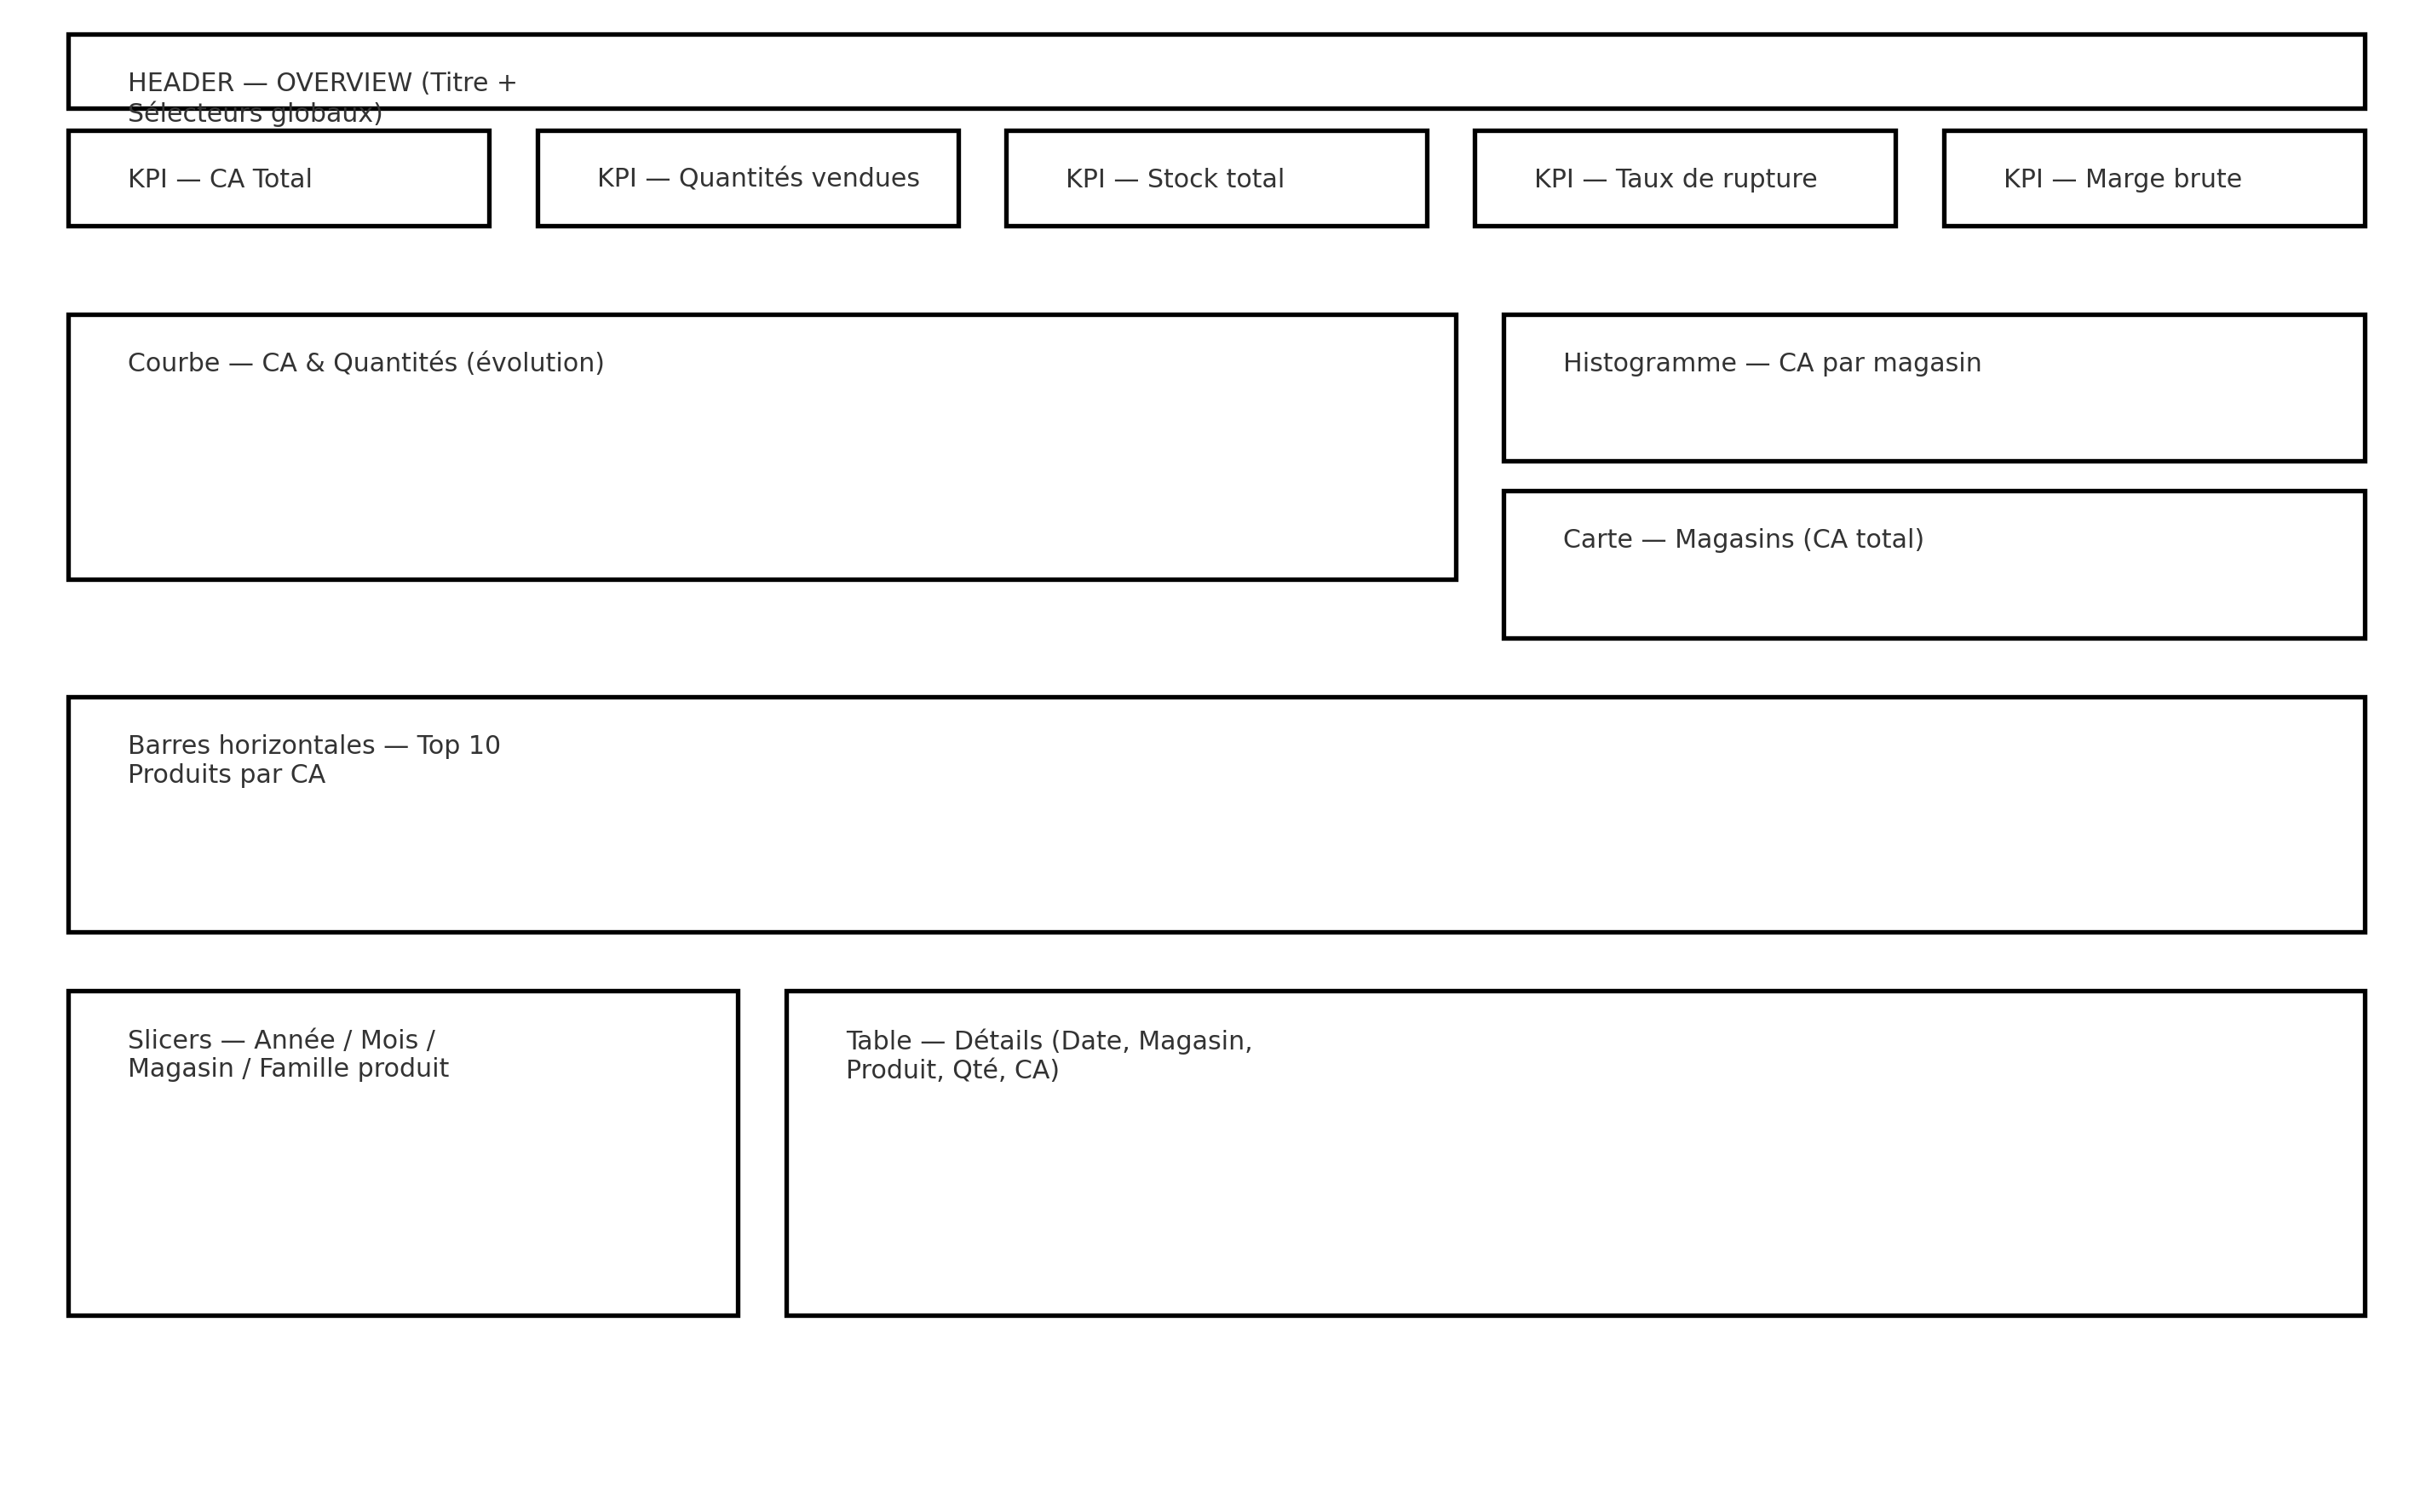

This screenshot's page, from the dashboard's own definition file:
{"tool":"powerbi","page":{"name":"OVERVIEW","canvas":[1280,720],"ordinal":0},"visuals":[{"type":"group","id":"g1","title":"Groupe 2","box":[269,18.7,988.3,105],"z":0},{"type":"basicShape","box":[269,18.7,988.3,105],"z":0,"group":"g1"},{"type":"basicShape","box":[1.2,0,232.3,720],"z":500,"group":"g2"},{"type":"areaChart","fields":{"Category":["data.Date"],"Y":["Sum(data.Valorisation des ventes)"]},"box":[266.6,149.6,515.2,546.5],"z":1000},{"type":"image","box":[266.6,41,79.6,63.9],"z":2000},{"type":"clusteredBarChart","fields":{"Category":["data.Magasin"],"Y":["Sum(data.Valorisation des ventes)"]},"box":[799.9,348.7,457.2,347.5],"z":3000},{"type":"group","id":"g2","title":"Groupe 2","box":[1.2,0,232.3,720],"z":4000},{"type":"textbox","box":[16.9,36.2,194.2,74.8],"z":5000},{"type":"slicer","fields":{"Values":["data.Date"]},"box":[2.2,123.3,227.8,83.3],"z":6000},{"type":"slicer","fields":{"Values":["data.Magasin"]},"box":[2.2,397.8,227.8,75.6],"z":7000},{"type":"slicer","fields":{"Values":["data.Libellé"]},"box":[2.2,487.8,227.8,83.3],"z":8000},{"type":"slicer","fields":{"Values":["data.Année"]},"box":[2.2,222.2,227.8,72.2],"z":9000},{"type":"slicer","fields":{"Values":["data.Mois"]},"box":[2.2,313.3,227.8,72.2],"z":10000},{"type":"actionButton","box":[120.7,608.7,43.4,39.8],"z":11000},{"type":"actionButton","box":[70.2,608.1,39.9,39.9],"z":12000},{"type":"card","fields":{"Values":["Sum(data.Somme des sorties (ventes))"]},"box":[590.2,41,153.2,70],"z":13000},{"type":"card","fields":{"Values":["Sum(data.Somme des entrées (achats))"]},"box":[827.6,41,164.1,70],"z":14000},{"type":"card","fields":{"Values":["Sum(data.Valorisation des ventes)"]},"box":[346.2,41,149.6,70],"z":15000},{"type":"card","fields":{"Values":["Count(data.Référence produit)"]},"box":[1091.8,41,141.2,70],"z":16000},{"type":"image","box":[1021.9,32.6,76,79.6],"z":17000},{"type":"card","fields":{"Values":["data.TexteStockDerniereDate"]},"box":[799.8,149.6,457.5,182.7],"z":18000},{"type":"image","box":[754,27.7,83.2,91.7],"z":19000},{"type":"image","box":[801.1,154.4,63.9,67.6],"z":20000},{"type":"image","box":[512,26.7,77.1,90.7],"z":20004,"group":"g1"}]}

Visuals, with their boxes on the page's 1280x720 design canvas (x1, y1, x2, y2). These are canvas units, not pixel positions in the 2432x1512 screenshot, which may show the page scaled, cropped or inside an application window:
"Groupe 2" group: 269 19 1257 124
basicShape: 269 19 1257 124
basicShape: 1 0 234 720
areaChart - data.Date x Sum(data.Valorisation des ventes): 267 150 782 696
image: 267 41 346 105
clusteredBarChart - data.Magasin x Sum(data.Valorisation des ventes): 800 349 1257 696
"Groupe 2" group: 1 0 234 720
textbox: 17 36 211 111
slicer - data.Date: 2 123 230 207
slicer - data.Magasin: 2 398 230 473
slicer - data.Libellé: 2 488 230 571
slicer - data.Année: 2 222 230 294
slicer - data.Mois: 2 313 230 386
actionButton: 121 609 164 648
actionButton: 70 608 110 648
card - Sum(data.Somme des sorties (ventes)): 590 41 743 111
card - Sum(data.Somme des entrées (achats)): 828 41 992 111
card - Sum(data.Valorisation des ventes): 346 41 496 111
card - Count(data.Référence produit): 1092 41 1233 111
image: 1022 33 1098 112
card - data.TexteStockDerniereDate: 800 150 1257 332
image: 754 28 837 119
image: 801 154 865 222
image: 512 27 589 117
